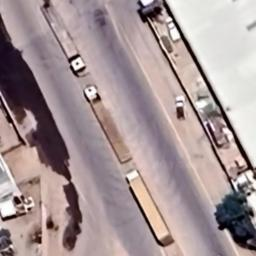pickup: (175, 96, 186, 122)
truck: (83, 84, 134, 164), (125, 167, 175, 247), (40, 1, 90, 78)
